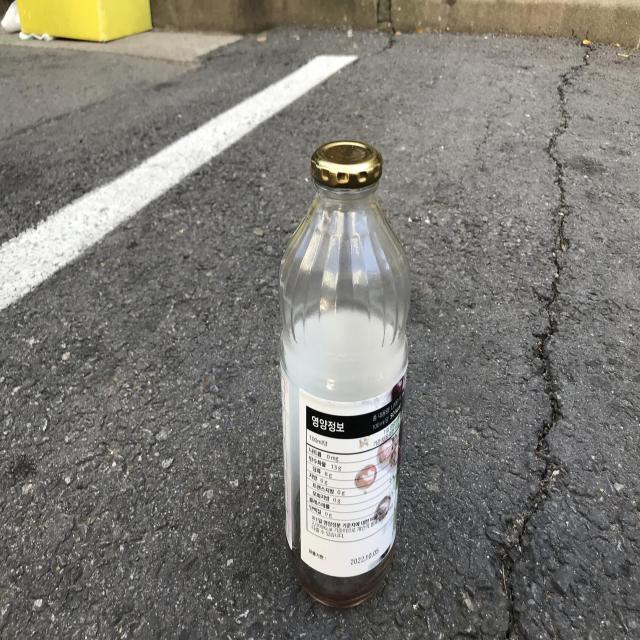glass: (279, 140, 411, 608)
